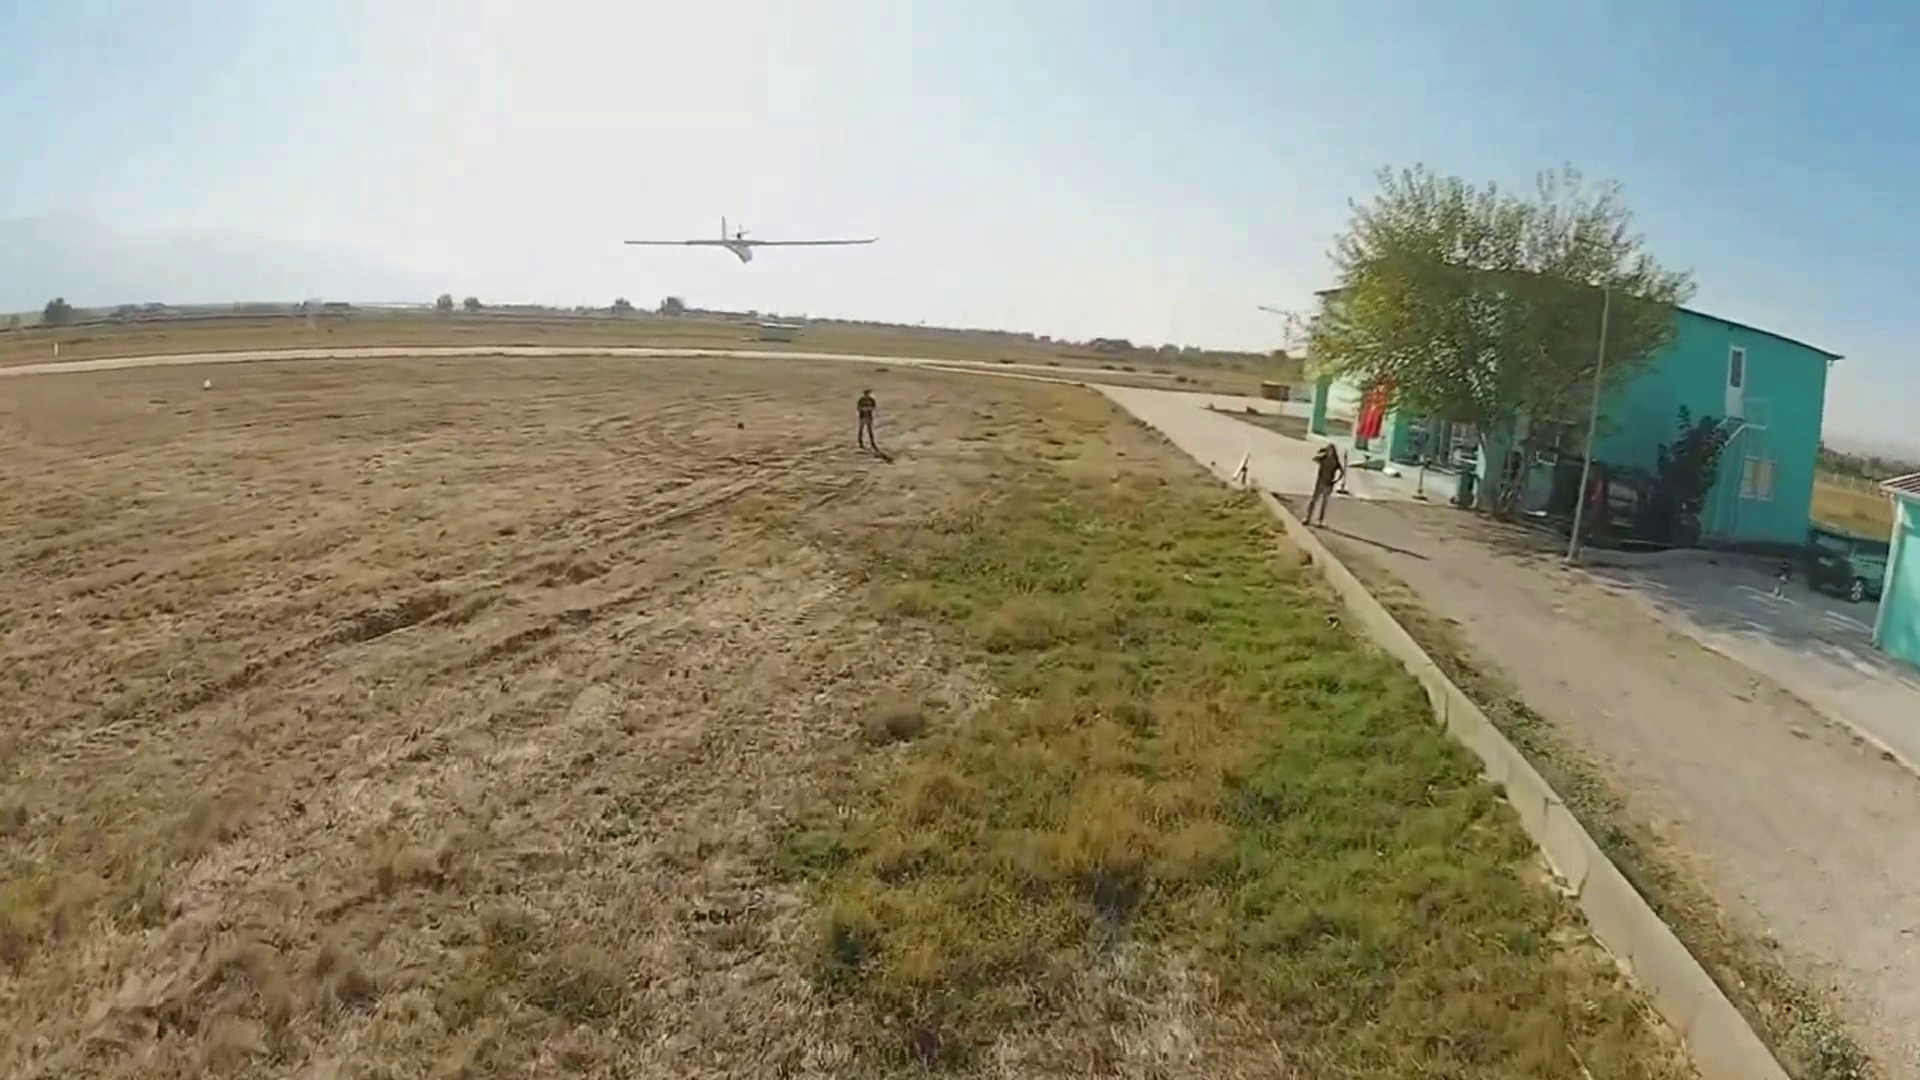airplane: (618, 214, 884, 266)
